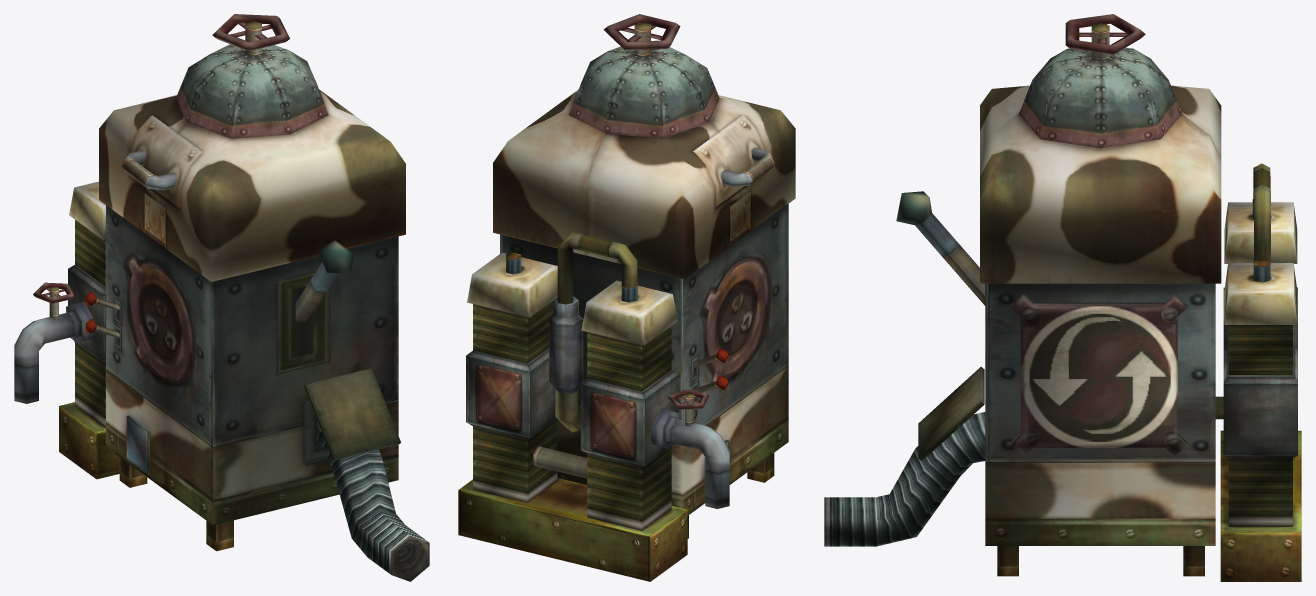
Rendered from a_SWApurifier01-01.glb.
3 renders of one model, left to right at view 1: azimuth 30°, elevation 25°; view 2: azimuth 150°, elevation 25°; view 3: azimuth 270°, elevation 25°, orthographic. The views are drawn at different scales.
Visible parts, largest first — view 1: a_SWApurifier01-01; view 2: a_SWApurifier01-01; view 3: a_SWApurifier01-01.
Part boxes in pixels (x1,y1,x2,y2): a_SWApurifier01-01: (14, 14, 429, 581); a_SWApurifier01-01: (458, 14, 795, 581); a_SWApurifier01-01: (824, 14, 1301, 581).
Size of the model in its own units: 2.88 by 4.98 by 4.26.
Materials: 5 (5 with a texture image).
